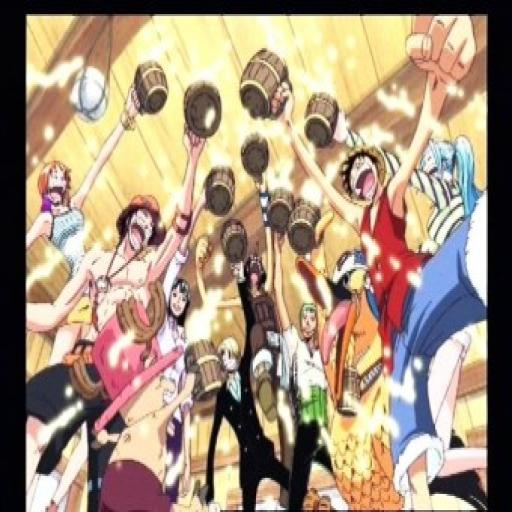Luffy: (340, 130, 394, 208)
Nami: (33, 154, 85, 212)
NicoRobin: (163, 267, 202, 329)
Usopp: (242, 233, 270, 293)
Zoro: (298, 299, 322, 348)
sanji: (218, 334, 242, 378)
